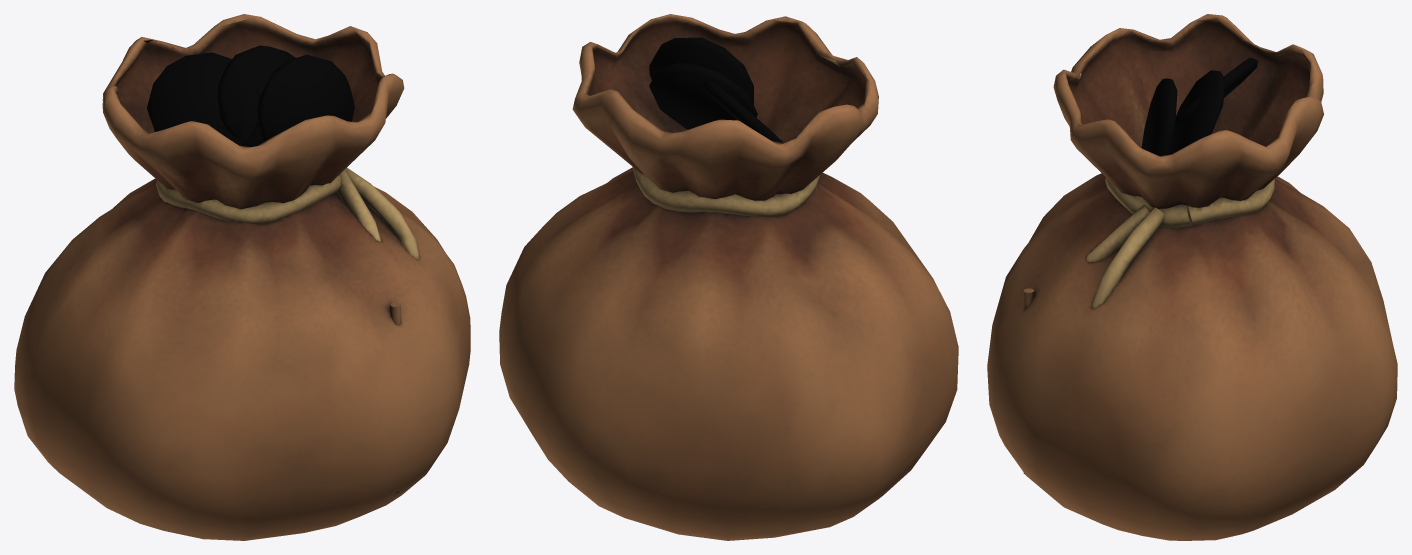
The model's file is item_bolsa.glb.
The picture shows the model from 3 angles, left to right: view 1: azimuth 30°, elevation 25°; view 2: azimuth 150°, elevation 25°; view 3: azimuth 270°, elevation 25°; orthographic projection. The views are drawn at different scales.
Visible parts, largest first — view 1: item_bolsa; view 2: item_bolsa; view 3: item_bolsa.
Boxes of the visible parts, x1=… form: item_bolsa: x1=14, y1=14, x2=470, y2=540; item_bolsa: x1=499, y1=14, x2=958, y2=540; item_bolsa: x1=987, y1=14, x2=1397, y2=540.
Bounding box in the file's own units: 0.2232 × 0.2317 × 0.1981.
1 material, 1 textured.
